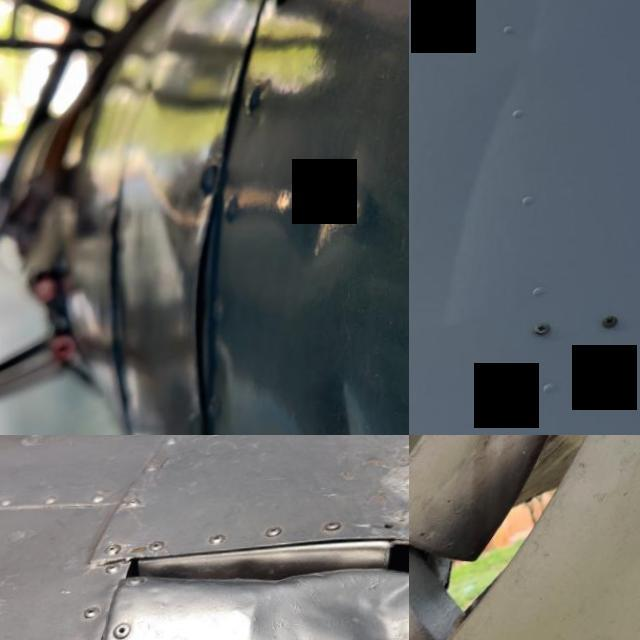Dent: (409, 0, 601, 373), (266, 144, 394, 282), (451, 435, 640, 502), (294, 557, 409, 640), (289, 366, 409, 435)
